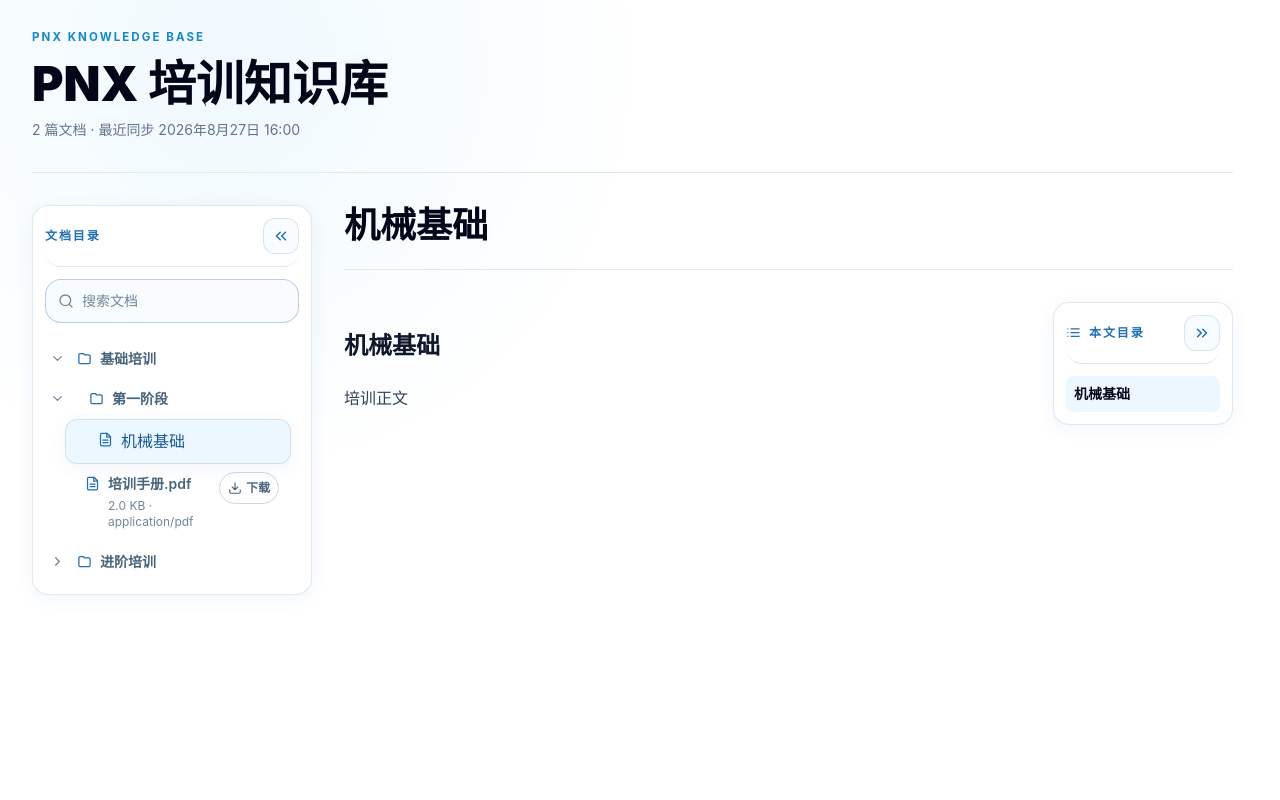
Test: knowledge reader › follows the active document path and collapses the path left behind
This screenshot has width=1280, height=800.
Check: the button named "收起第一阶段" is shown, box [45,387,69,411]
Click the button named "展开进阶培训" at (57, 562), box [45,550,69,574]
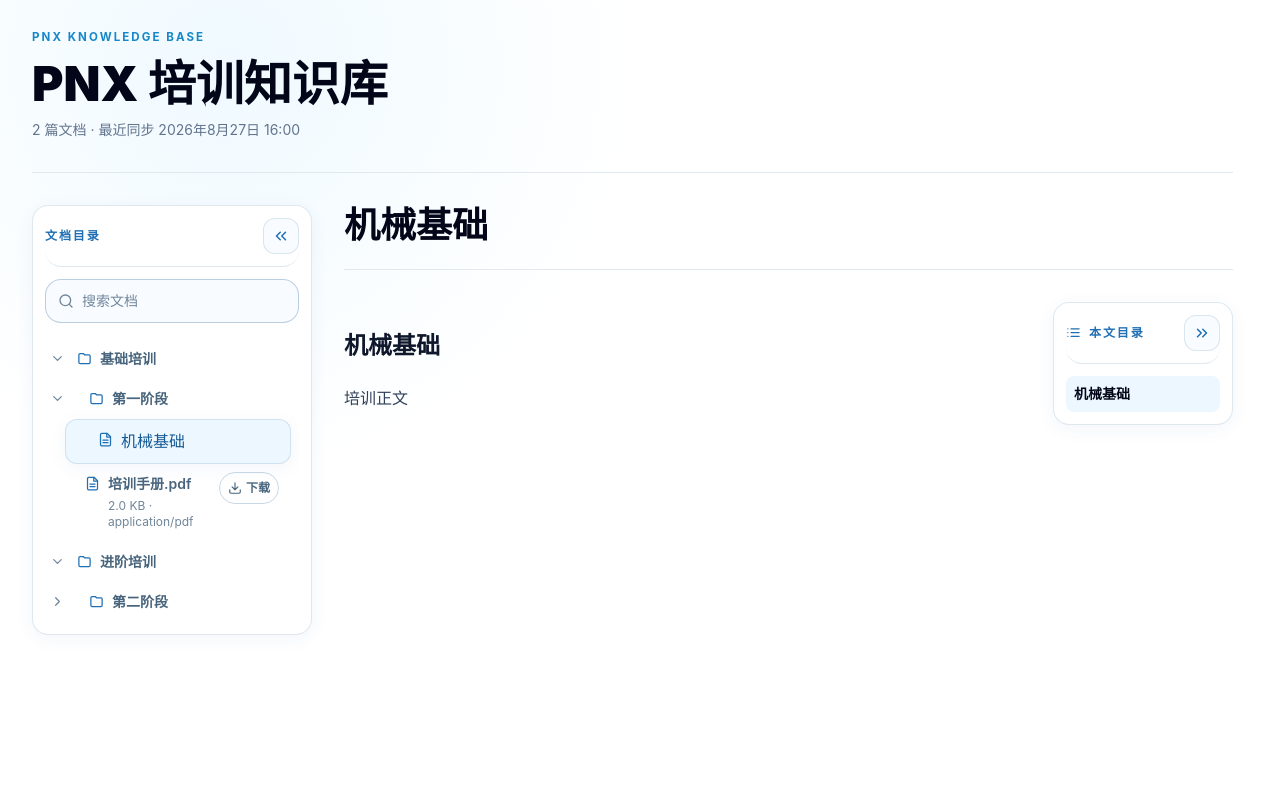
Click the button named "展开第二阶段" at (57, 602), box [45,590,69,614]
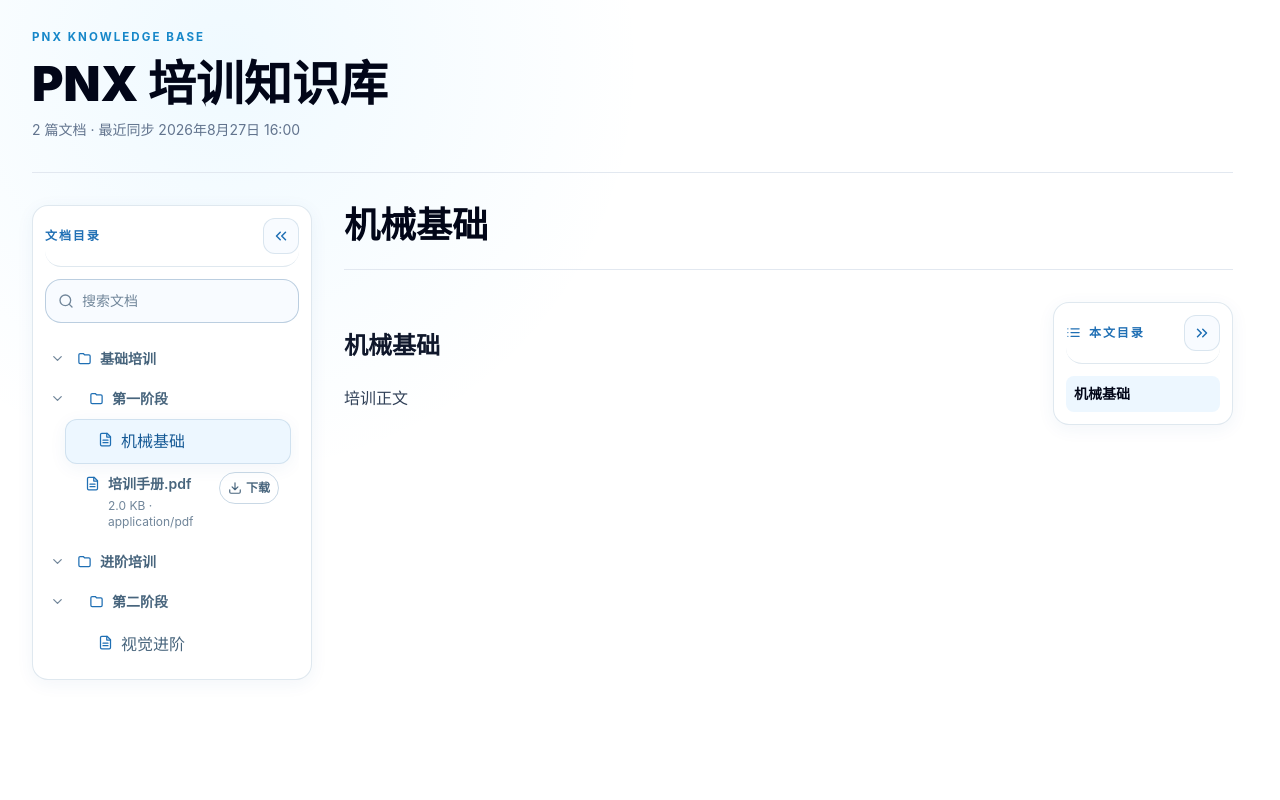
Click the button "视觉进阶" at (178, 644), box [65,622,291,667]
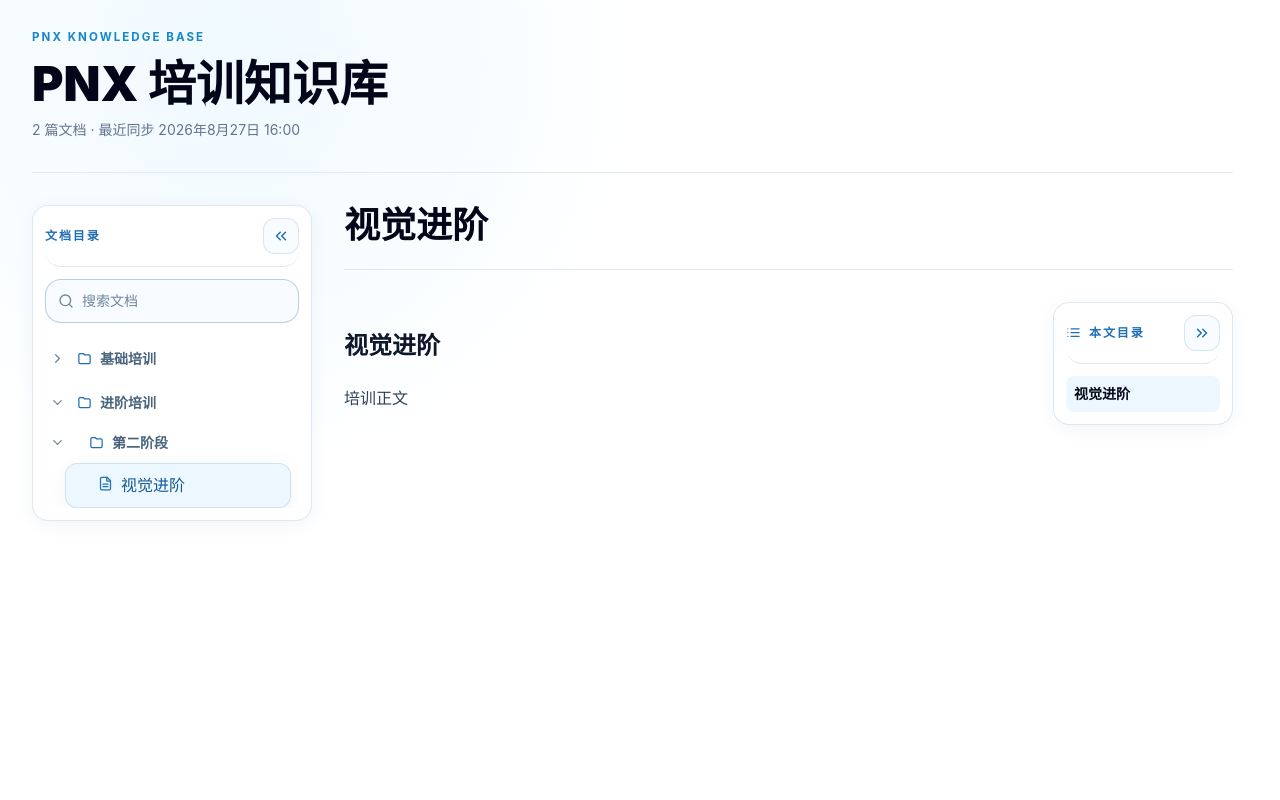
Check: the button named "收起第二阶段" is shown, box [45,431,69,455]
Check: the 1st heading "视觉进阶" is shown, box [344,203,488,247]
Check: the button named "展开基础培训" is shown, box [45,347,69,371]
